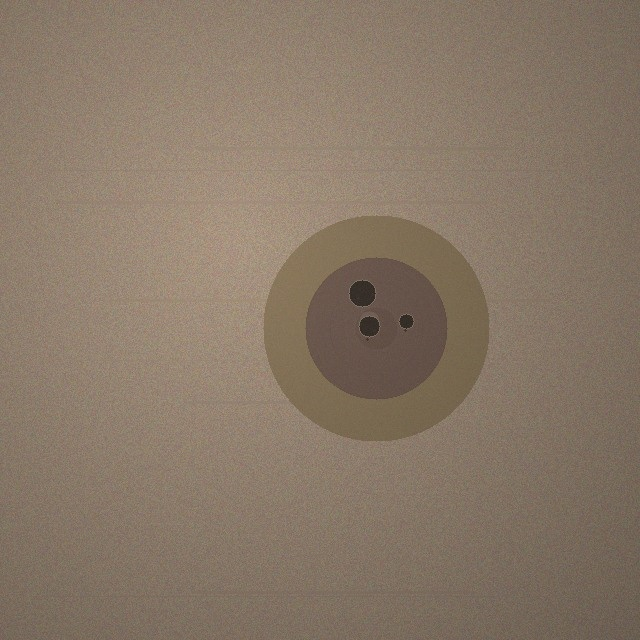shrinkage: (263, 215, 489, 441)
